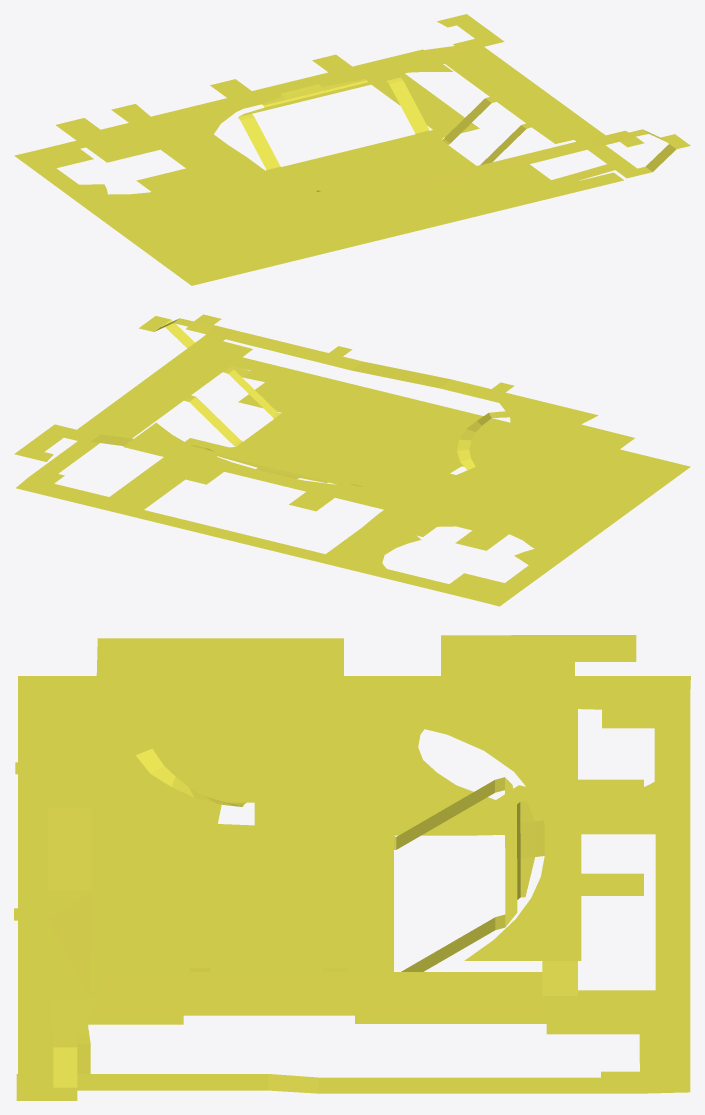
The model's file is navmesh.glb.
3 views of the same model, one above another, from view 1: azimuth 30°, elevation 25°; view 2: azimuth 150°, elevation 25°; view 3: azimuth 270°, elevation 25° (orthographic). The views are drawn at different scales.
Visible parts, largest first — view 1: 平面; view 2: 平面; view 3: 平面.
Part boxes in pixels (<box>): 平面: <box>14,14,690,285</box>; 平面: <box>14,314,690,606</box>; 平面: <box>14,635,690,1100</box>.
Size of the model in its own units: 4.43 by 0.2949 by 2.76.
